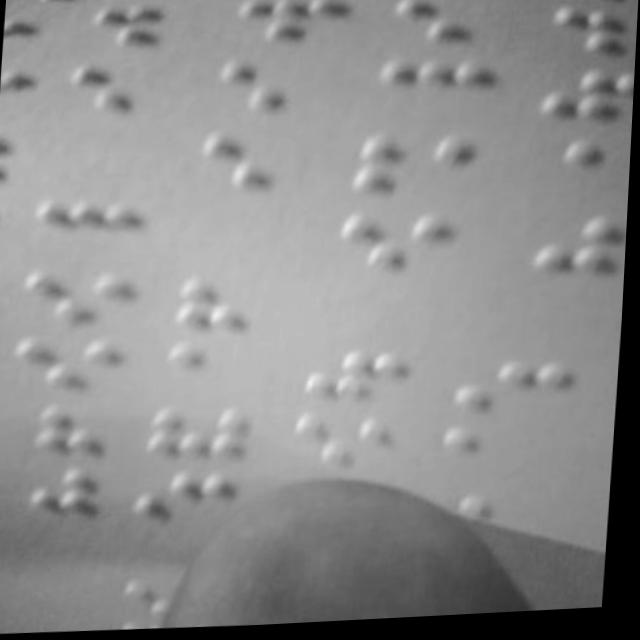braiile: (184, 129, 328, 209), (334, 210, 470, 288), (350, 133, 476, 212), (366, 58, 498, 131), (450, 356, 580, 429), (167, 271, 293, 344), (206, 58, 336, 128), (141, 403, 267, 473), (287, 410, 409, 482), (432, 426, 560, 494), (58, 59, 185, 124), (130, 467, 256, 532), (33, 193, 148, 264), (303, 346, 421, 415), (23, 261, 137, 330), (516, 146, 633, 213), (15, 331, 131, 398), (158, 342, 280, 404), (383, 0, 506, 61), (535, 217, 630, 295), (529, 73, 636, 140), (541, 5, 639, 71), (230, 0, 350, 53)
